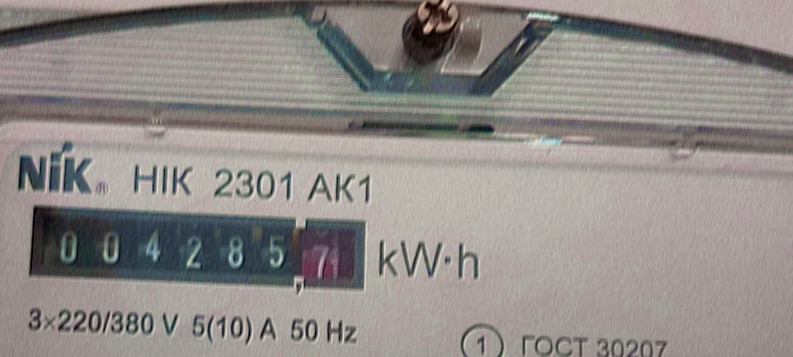0: (97, 226, 121, 264), (55, 226, 78, 262)
2: (181, 231, 203, 268)
4: (142, 225, 161, 261)
5: (262, 230, 286, 267)
7: (307, 241, 329, 278)
8: (221, 231, 245, 269)
screen: (11, 187, 381, 309)
